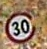limite 30: (3, 9, 36, 43)
